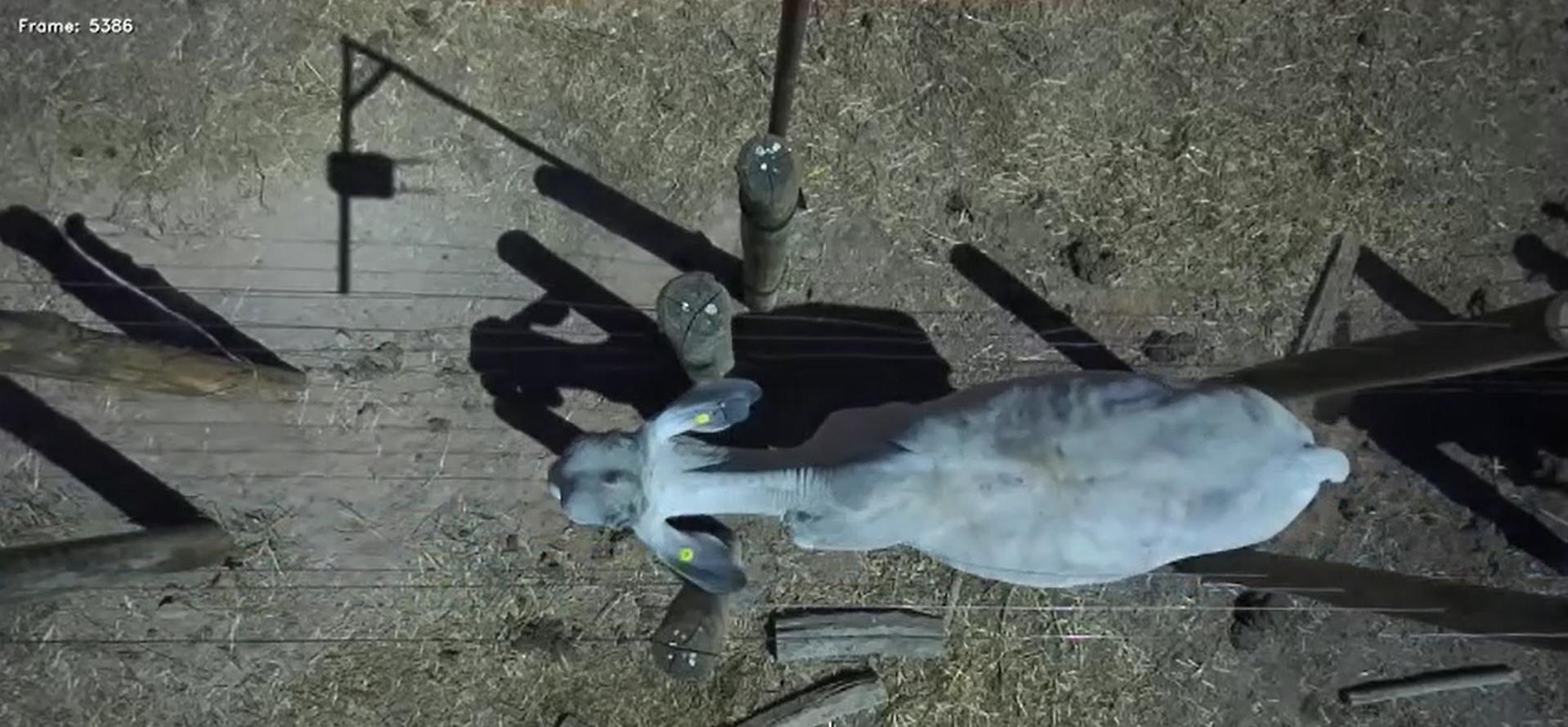cattle: (542, 363, 1366, 588)
